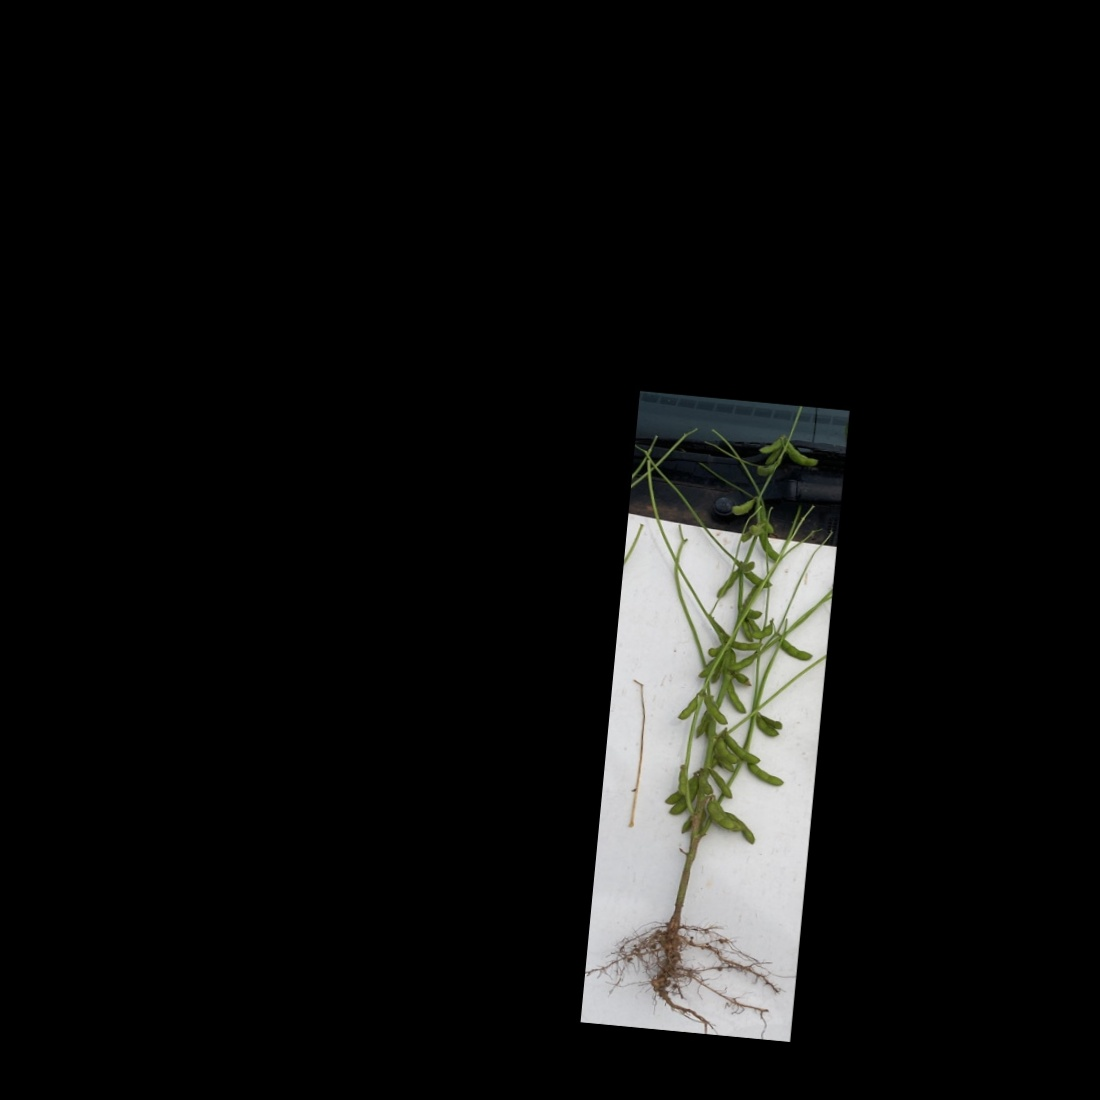pod: (718, 731, 765, 766), (695, 691, 731, 728), (701, 799, 741, 832), (742, 761, 787, 788), (723, 679, 750, 718), (778, 636, 816, 663), (725, 647, 760, 675), (675, 689, 698, 724), (754, 715, 781, 739)
soy: (597, 404, 839, 1008)
